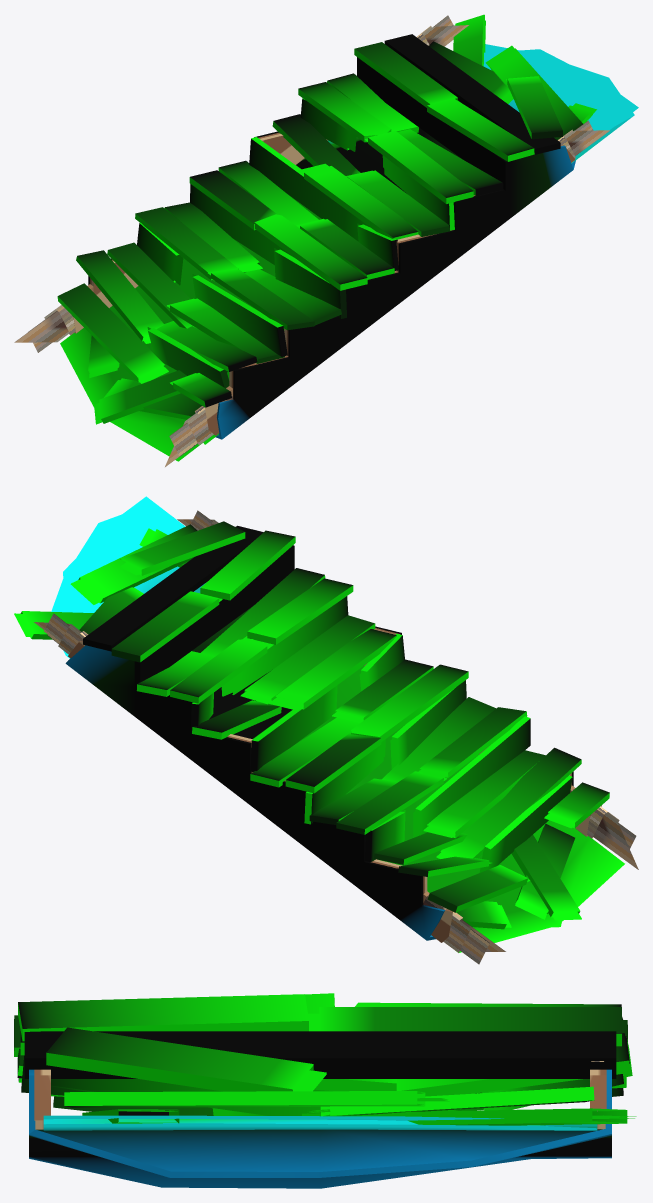
File: DBK_Stairs_Wood_Short_Damage_Mid.FBX
3 renders of one model, top to bottom at view 1: azimuth 30°, elevation 25°; view 2: azimuth 150°, elevation 25°; view 3: azimuth 270°, elevation 25°, orthographic. The views are drawn at different scales.
Visible parts, largest first — view 1: DBK_Stairs_Wood_Short_Damage_Mid, DBK_Stairs_Wood_Short_Damage_Mid_Drywall, DBK_Stairs_Wood_Short_Damage_Mid_Plywood, DBK_Stairs_Wood_Short_Damage_Mid_Support; view 2: DBK_Stairs_Wood_Short_Damage_Mid, DBK_Stairs_Wood_Short_Damage_Mid_Drywall, DBK_Stairs_Wood_Short_Damage_Mid_Plywood, DBK_Stairs_Wood_Short_Damage_Mid_Support; view 3: DBK_Stairs_Wood_Short_Damage_Mid, DBK_Stairs_Wood_Short_Damage_Mid_Drywall, DBK_Stairs_Wood_Short_Damage_Mid_Plywood, DBK_Stairs_Wood_Short_Damage_Mid_Support.
Part boxes in pixels (bbox=[...]): DBK_Stairs_Wood_Short_Damage_Mid: bbox=[57, 14, 596, 424]; DBK_Stairs_Wood_Short_Damage_Mid_Drywall: bbox=[88, 131, 575, 439]; DBK_Stairs_Wood_Short_Damage_Mid_Plywood: bbox=[60, 44, 638, 461]; DBK_Stairs_Wood_Short_Damage_Mid_Support: bbox=[14, 15, 609, 466]; DBK_Stairs_Wood_Short_Damage_Mid: bbox=[14, 521, 609, 929]; DBK_Stairs_Wood_Short_Damage_Mid_Drywall: bbox=[65, 626, 573, 940]; DBK_Stairs_Wood_Short_Damage_Mid_Plywood: bbox=[51, 496, 624, 952]; DBK_Stairs_Wood_Short_Damage_Mid_Support: bbox=[34, 510, 638, 964]; DBK_Stairs_Wood_Short_Damage_Mid: bbox=[14, 993, 636, 1125]; DBK_Stairs_Wood_Short_Damage_Mid_Drywall: bbox=[29, 1069, 611, 1188]; DBK_Stairs_Wood_Short_Damage_Mid_Plywood: bbox=[43, 1115, 597, 1130]; DBK_Stairs_Wood_Short_Damage_Mid_Support: bbox=[34, 1061, 606, 1129].
Size of the model in its own units: 269 by 131 by 148.
Materials: 4 (1 with a texture image).
